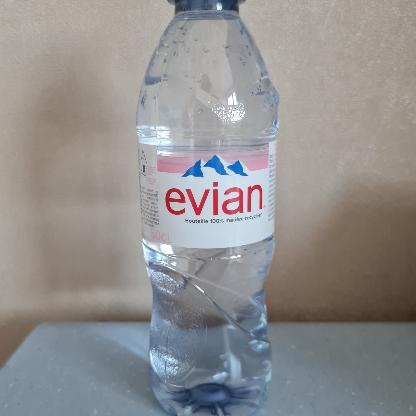Plastic Bottle: (135, 1, 279, 415)
